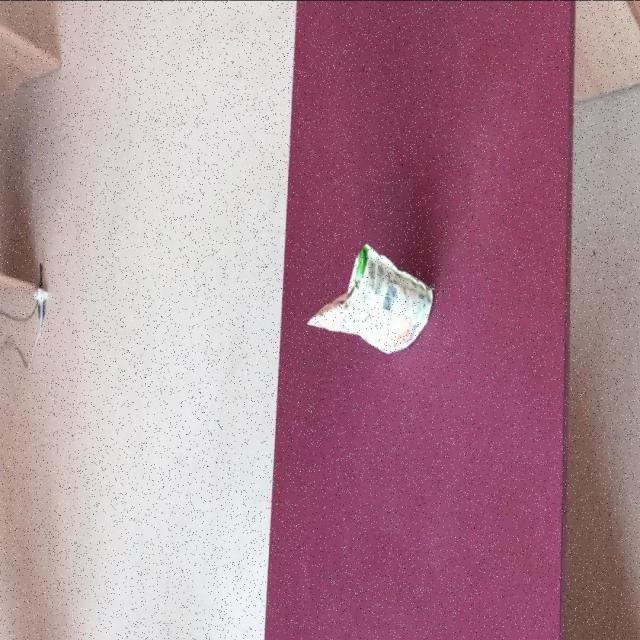CornFlakes: (306, 244, 434, 356)
